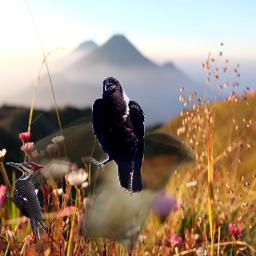Crow: (91, 76, 146, 196)
Swallow: (20, 111, 196, 253)
Woodpecker: (5, 162, 46, 240)
